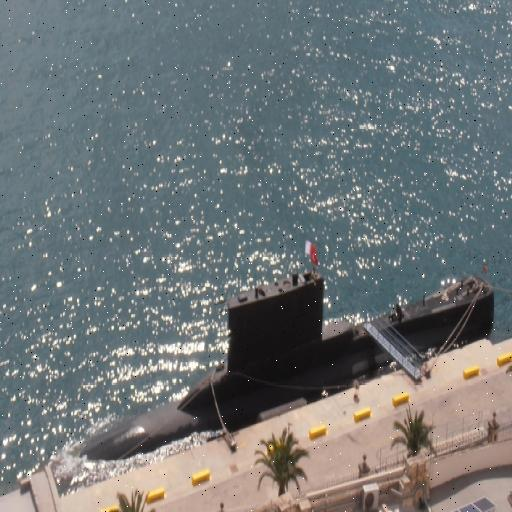submarine: (71, 269, 494, 459)
